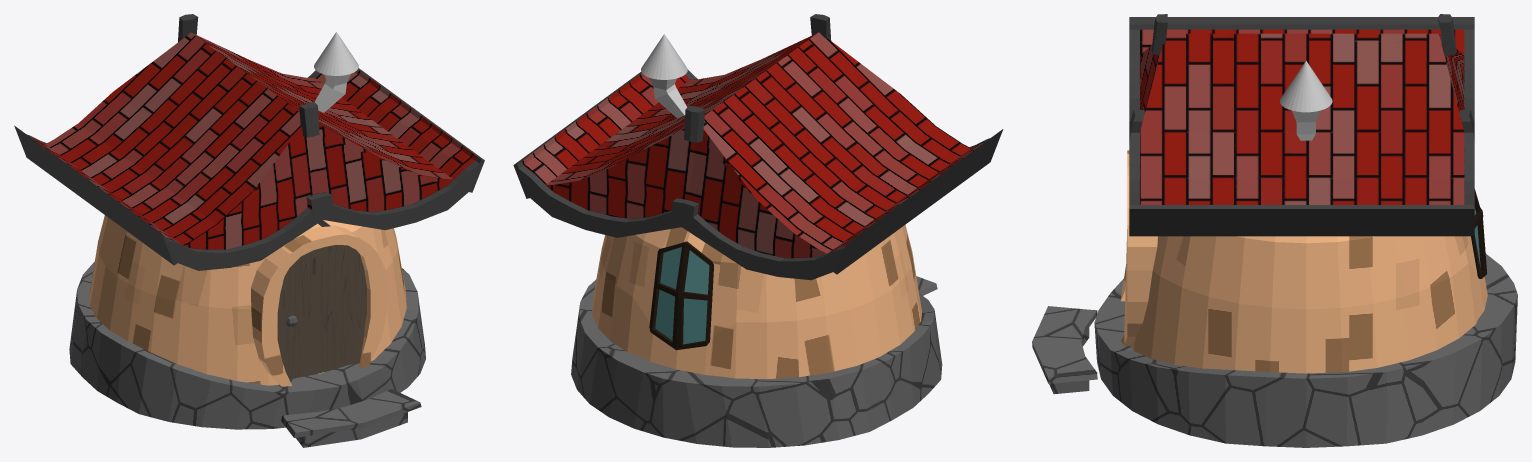
Rendered from CasaBolinhaVariacaoDeCor.fbx.
The picture shows the model from 3 angles, left to right: view 1: azimuth 30°, elevation 25°; view 2: azimuth 150°, elevation 25°; view 3: azimuth 270°, elevation 25°; orthographic projection. The views are drawn at different scales.
Visible parts, largest first — view 1: CasaBolinha; view 2: CasaBolinha; view 3: CasaBolinha.
Boxes of the visible parts, x1,y1,x2,y2 form: CasaBolinha: [14, 14, 484, 447]; CasaBolinha: [513, 14, 1003, 447]; CasaBolinha: [1032, 14, 1517, 447].
Bounding box in the file's own units: 1241 × 1111 × 1380.
